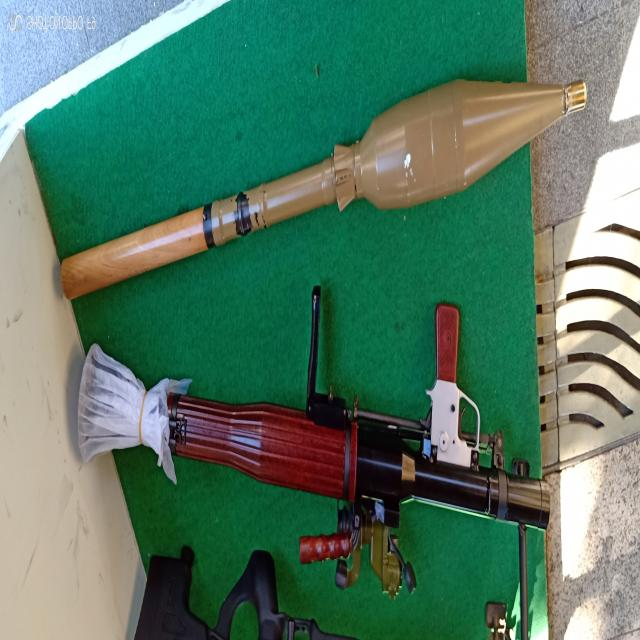Gun: (30, 308, 600, 546)
